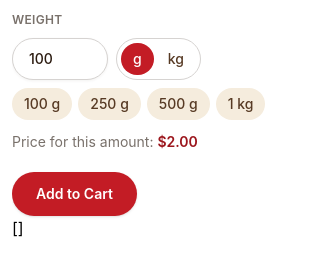
Test case: AddToCartControl › rejects zero and disables Add to Cart until a valid weight is entered
Replace the text in the number field named "Weight" with "0": (60, 59) [12,38,108,80]
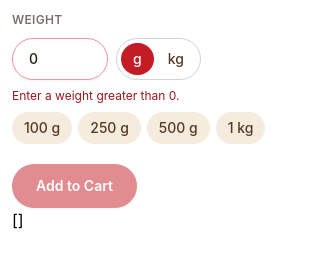
Result: the message reads "Enter a weight greater than 0." at [12,88,180,103]
Result: the button "Add to Cart" is disabled at [12,164,137,208]
